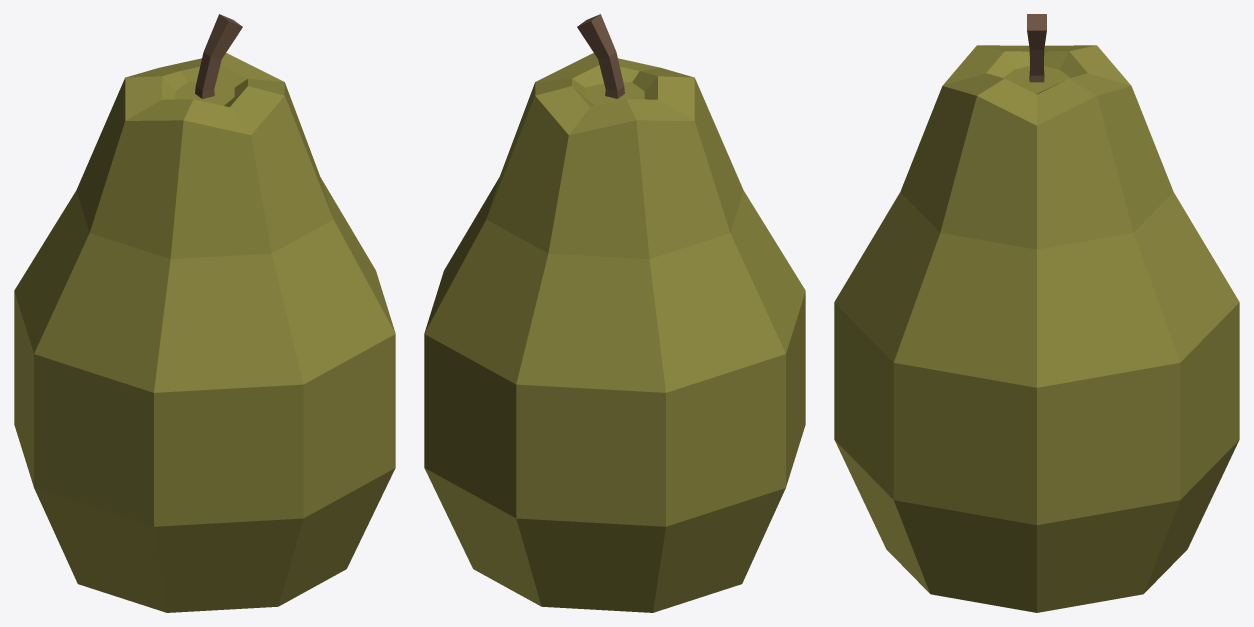
File: SM_Envr_Nature_Farm_Fruit_Guava.fbx
The picture shows the model from 3 angles, left to right: view 1: azimuth 30°, elevation 25°; view 2: azimuth 150°, elevation 25°; view 3: azimuth 270°, elevation 25°; orthographic projection. The views are drawn at different scales.
Parts seen in each view (by area): view 1: SM_Envr_Nature_Farm_Fruit_Guava; view 2: SM_Envr_Nature_Farm_Fruit_Guava; view 3: SM_Envr_Nature_Farm_Fruit_Guava.
Part boxes in pixels (x1,y1,x2,y2): SM_Envr_Nature_Farm_Fruit_Guava: [14, 14, 395, 612]; SM_Envr_Nature_Farm_Fruit_Guava: [424, 14, 805, 612]; SM_Envr_Nature_Farm_Fruit_Guava: [834, 14, 1239, 612].
Bounding box in the file's own units: 14.65 × 22.71 × 14.65.
